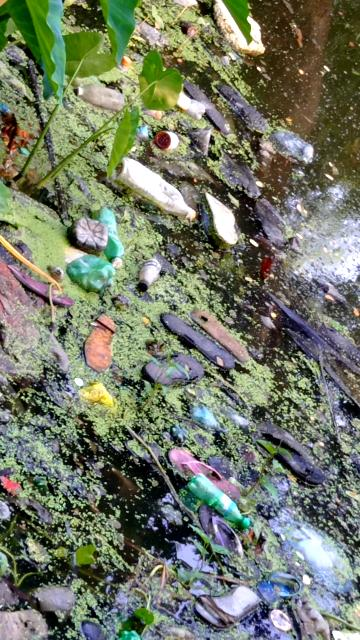bottle: (107, 158, 205, 228), (180, 464, 257, 541)
